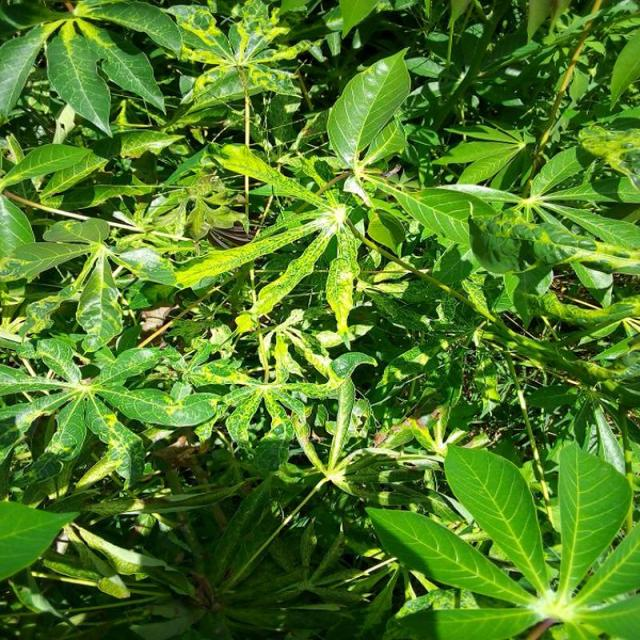cassava leaf: (444, 443, 550, 597), (558, 440, 634, 602), (326, 44, 413, 170)
